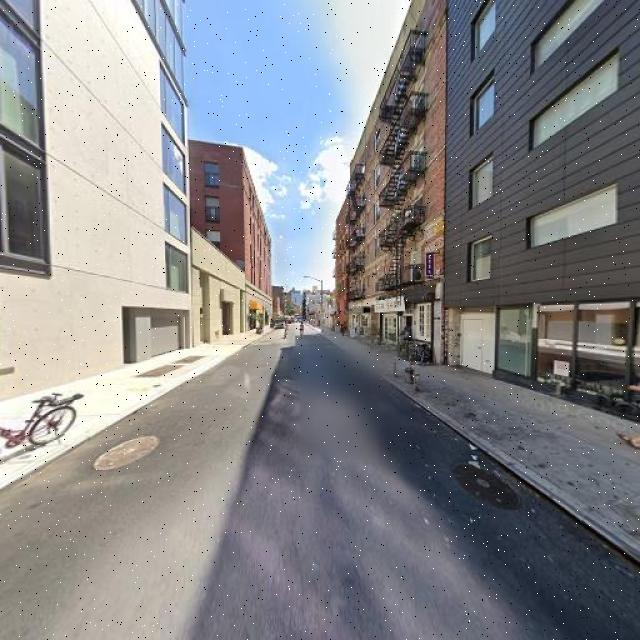Building: (452, 1, 640, 427), (1, 1, 187, 404), (353, 1, 449, 369), (190, 222, 243, 348)
